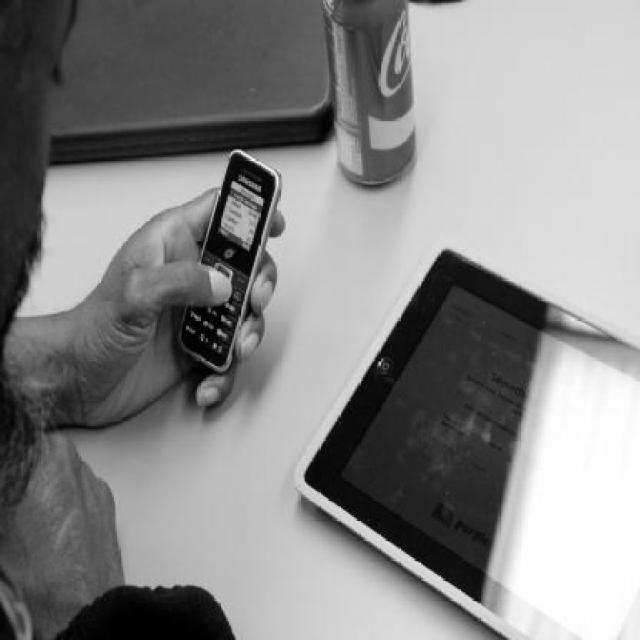fake: (186, 151, 286, 387)
